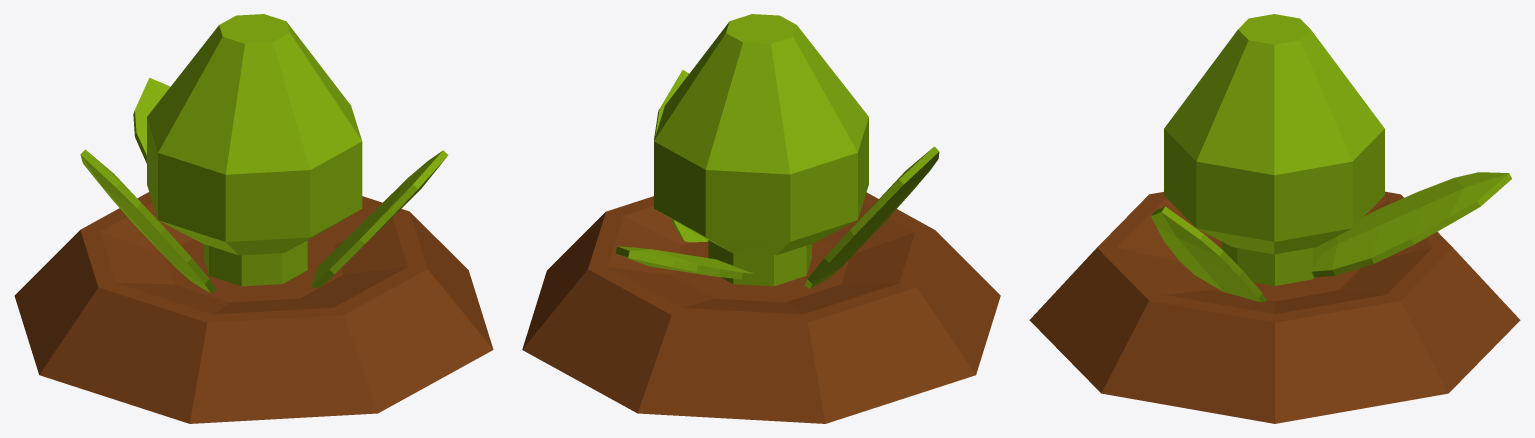
File: FlowerStage1.fbx
3 views of the same model, side by side, from view 1: azimuth 30°, elevation 25°; view 2: azimuth 150°, elevation 25°; view 3: azimuth 270°, elevation 25° (orthographic).
Visible parts, largest first — view 1: Stage0; view 2: Stage0; view 3: Stage0.
Part boxes in pixels (x1,y1,x2,y2): Stage0: (14, 14, 493, 423); Stage0: (522, 14, 1000, 423); Stage0: (1029, 14, 1520, 423).
Bounding box in the file's own units: 38.09 × 24.9 × 38.09.
